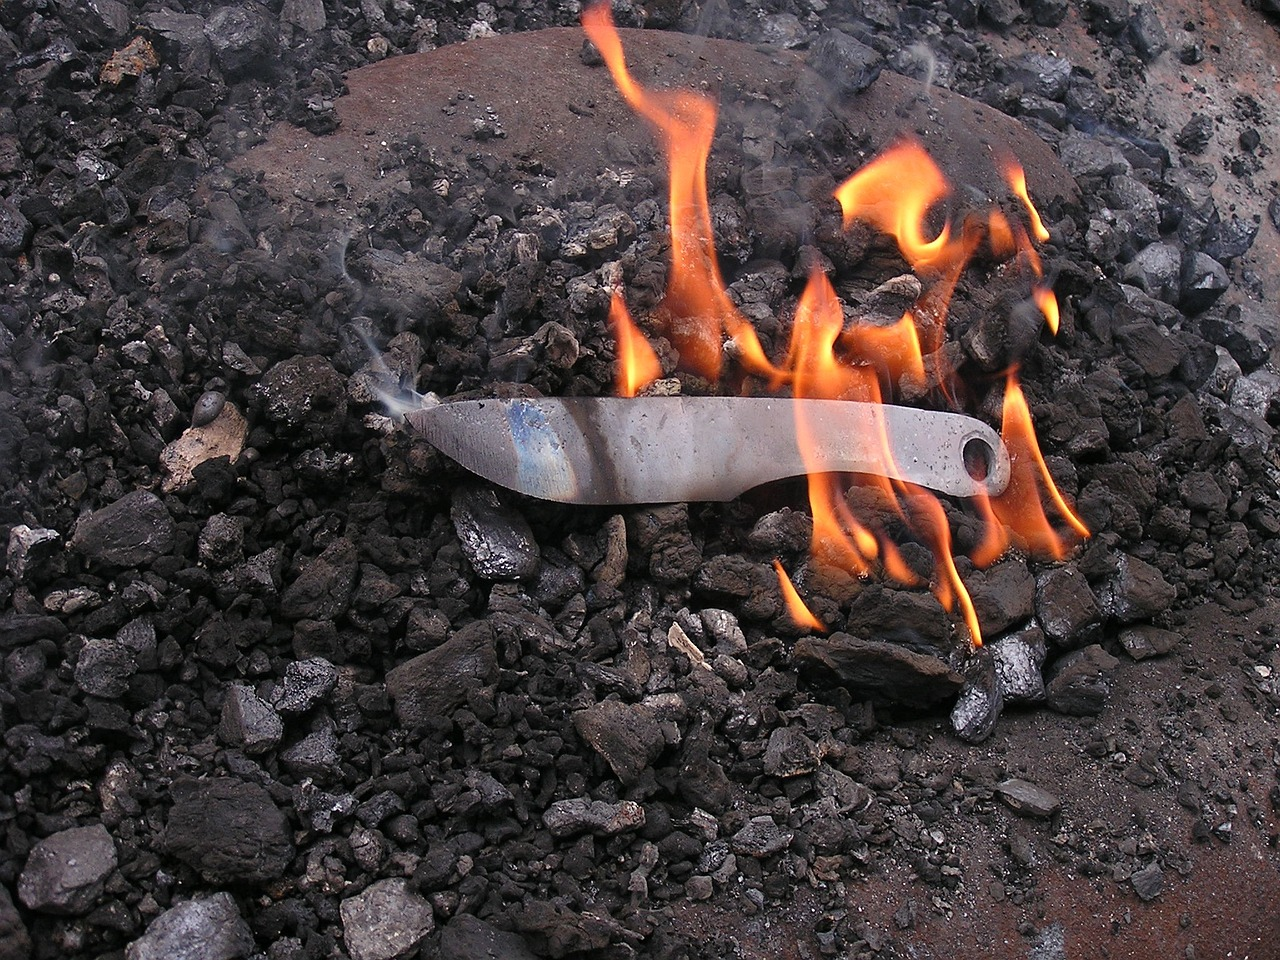knife: (366, 382, 1018, 524)
